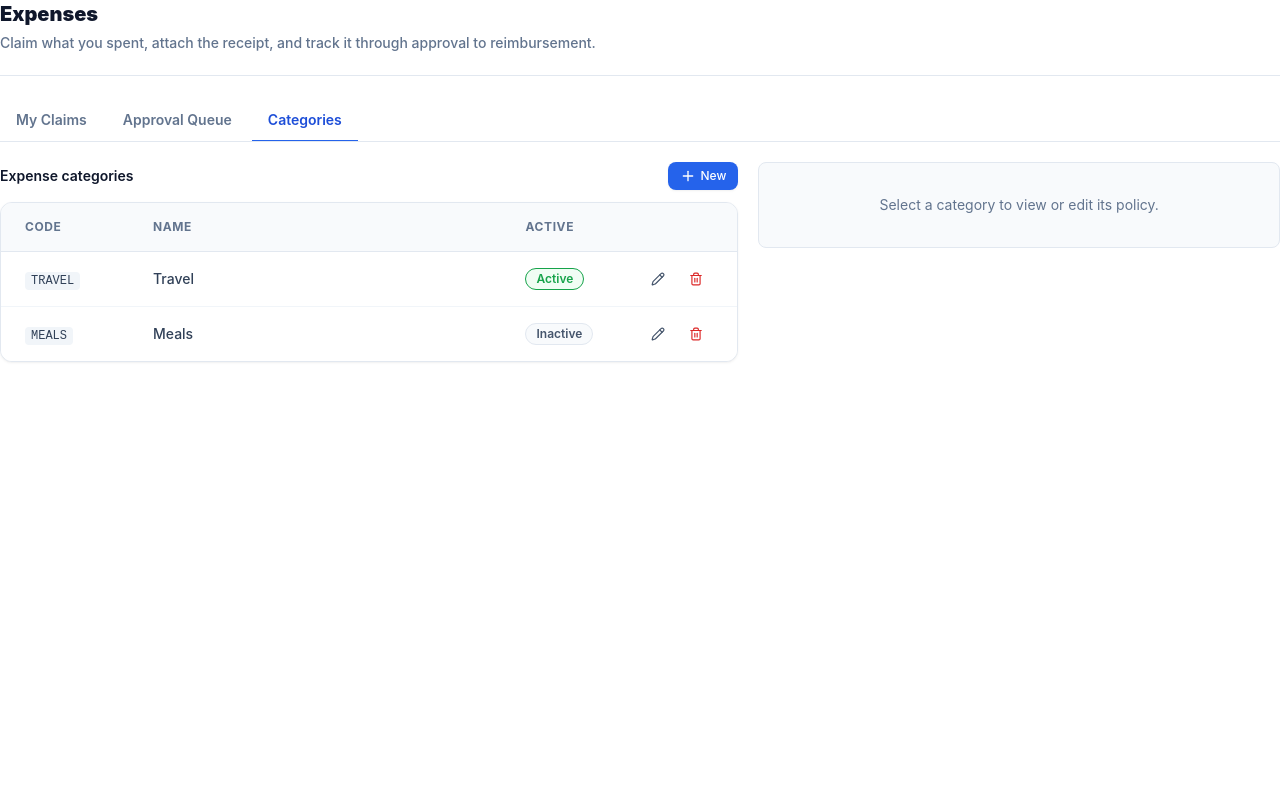
Test case: the category catalogue › confirms before deleting, and explains the in-use rule
Click the button named "Delete Travel". click: [696, 279]
box: [679,268,713,290]
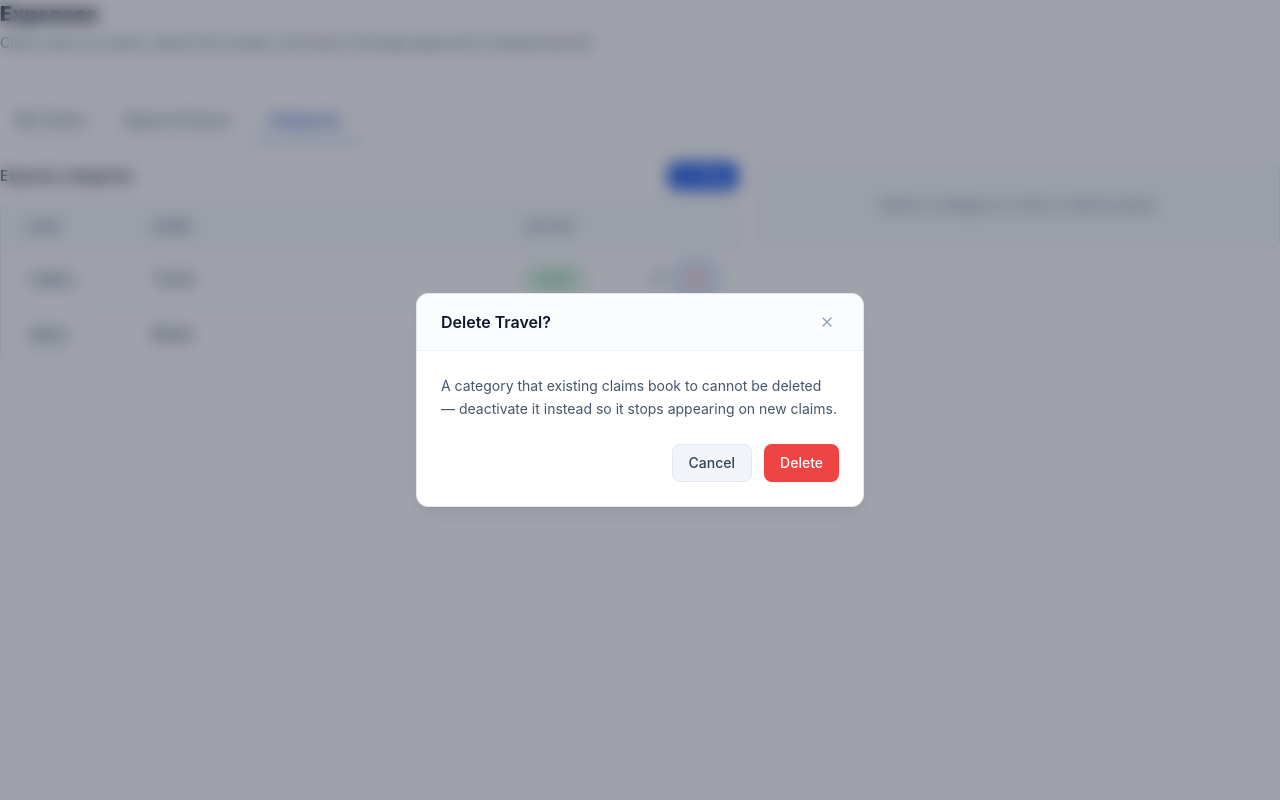
Result: the heading "Delete Travel?" is shown at [441,310,551,334]
Result: the text "cannot be deleted" is shown at [441,377,837,417]
